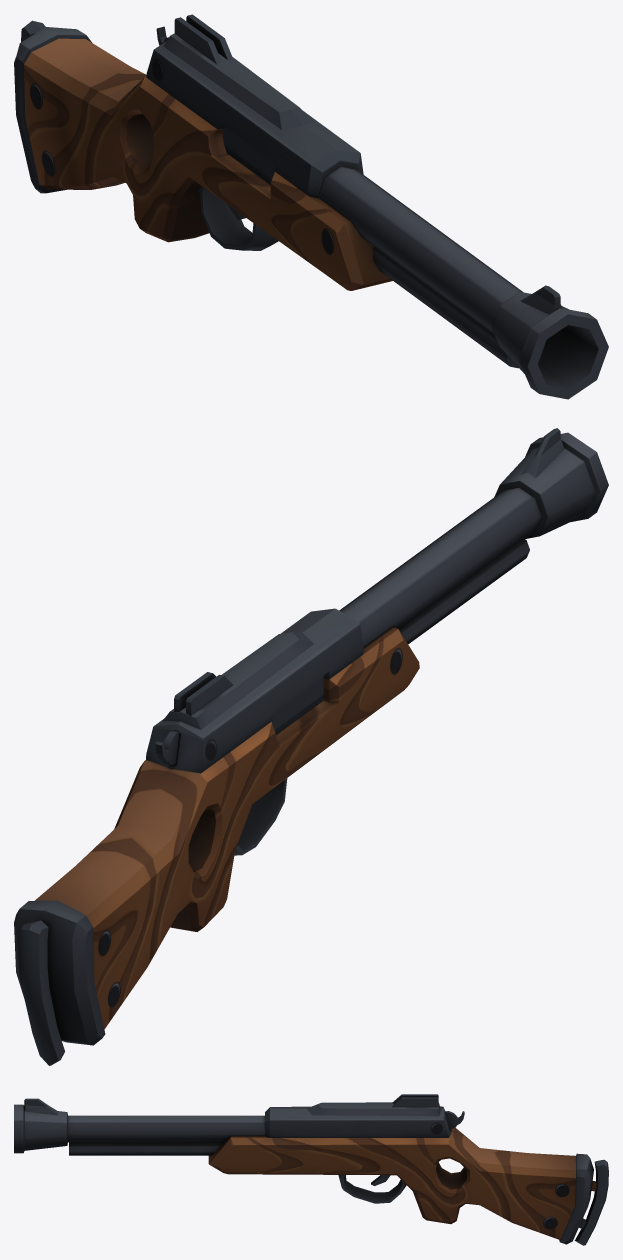
Rendered from gun_c03.fbx.
The picture shows the model from 3 angles, top to bottom: view 1: azimuth 30°, elevation 25°; view 2: azimuth 150°, elevation 25°; view 3: azimuth 270°, elevation 25°; orthographic projection. The views are drawn at different scales.
Visible parts, largest first — view 1: gun_c03; view 2: gun_c03; view 3: gun_c03.
Part boxes in pixels (x1,y1,x2,y2): gun_c03: (14, 14, 608, 399); gun_c03: (14, 428, 608, 1065); gun_c03: (14, 1094, 608, 1245).
Bounding box in the file's own units: 11.05 × 35.03 × 127.
